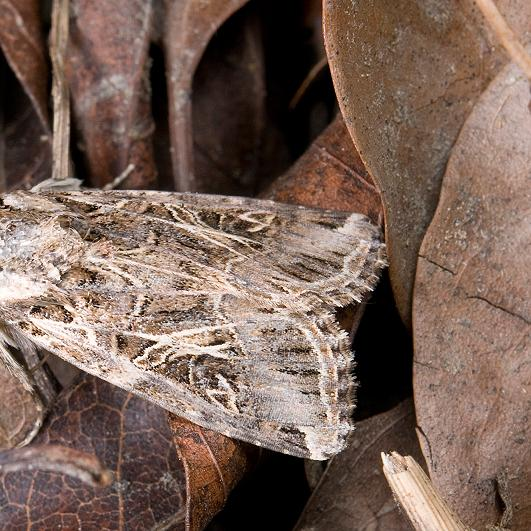Spodoptera litura: (1, 162, 391, 463)
